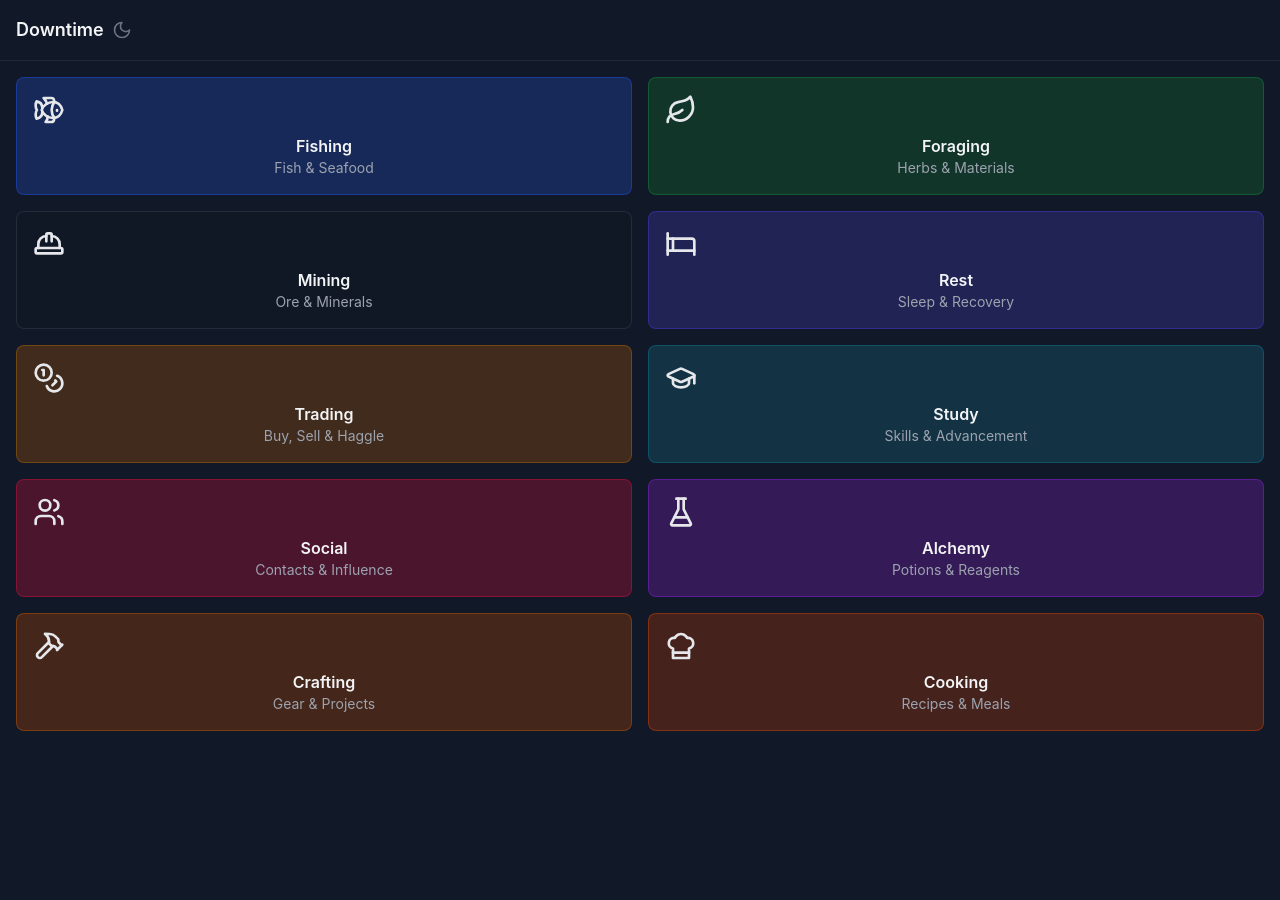
Test: DowntimePanel › navigates to fishing activity and shows back button
Click the heading "Fishing": (324, 146) [296, 136, 352, 156]
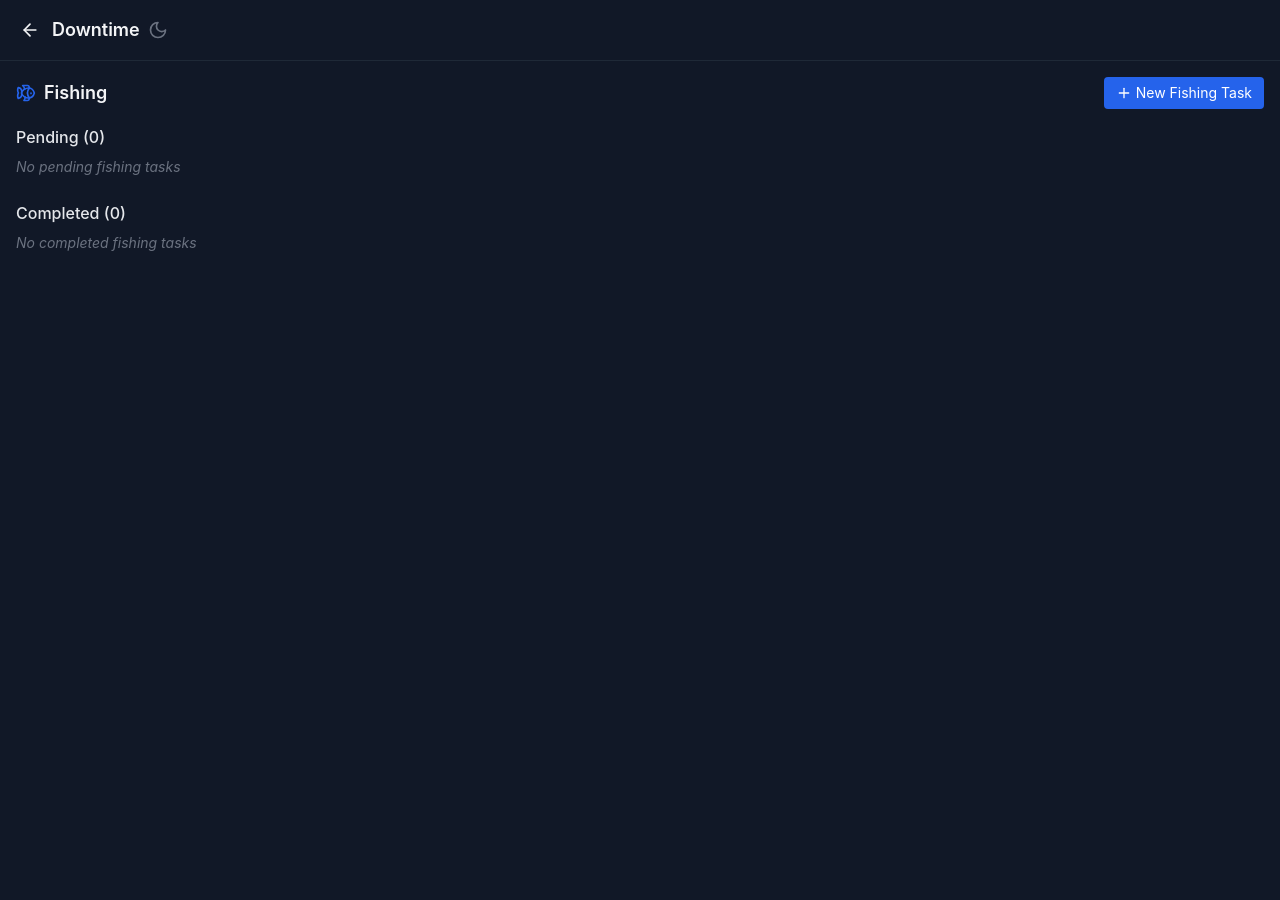
Now the button named "Back to activities" is shown, box [16, 16, 44, 44]
Now the element with test id "fishing-activity" is shown, box [16, 77, 1264, 253]
